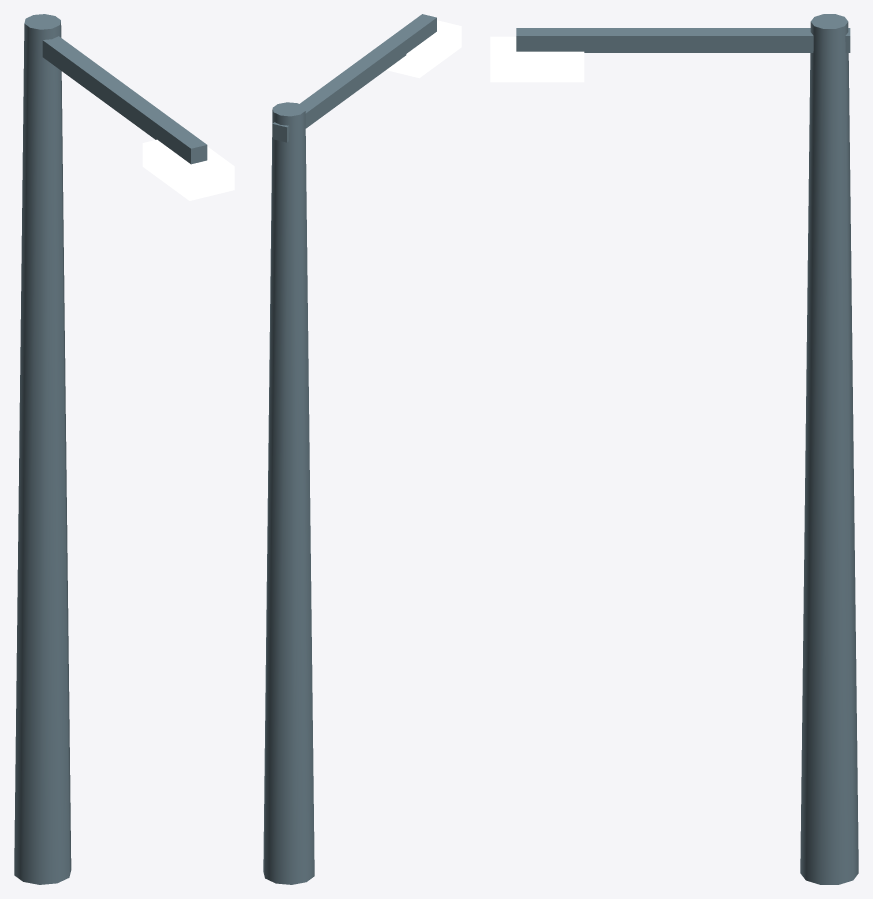
Rendered from streetlight.glb.
The picture shows the model from 3 angles, left to right: view 1: azimuth 30°, elevation 25°; view 2: azimuth 150°, elevation 25°; view 3: azimuth 270°, elevation 25°; orthographic projection. The views are drawn at different scales.
Bounding box in the file's own units: 0.5326 × 9 × 3.53.
